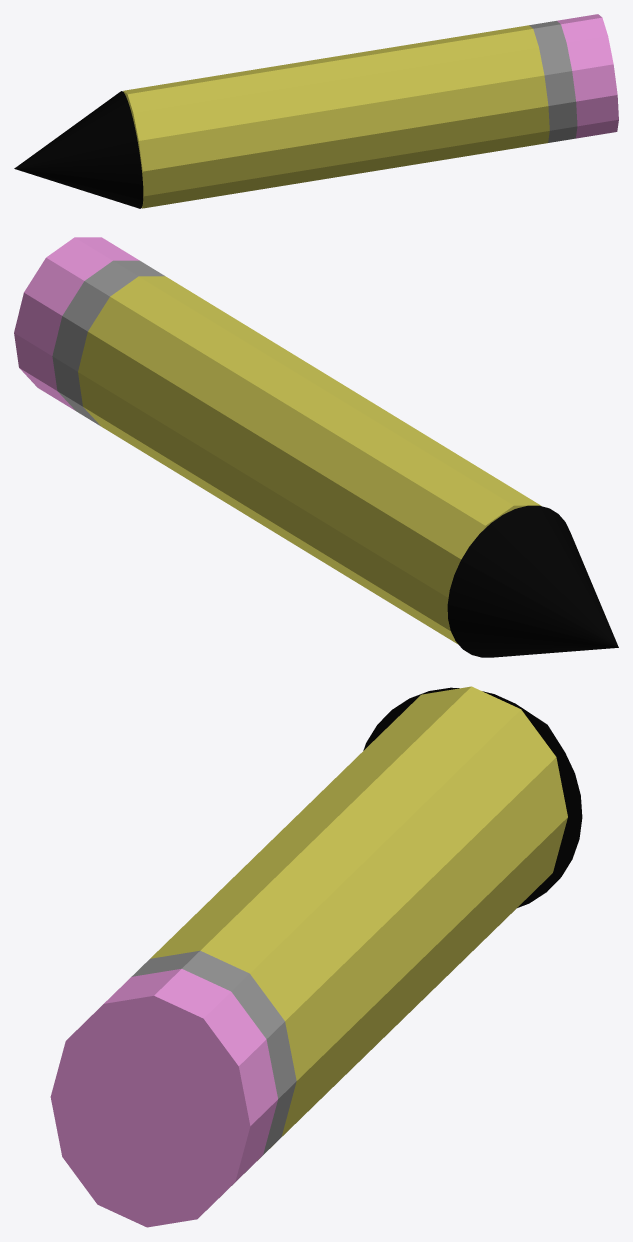
The model's file is pencil.fbx.
The picture shows the model from 3 angles, top to bottom: view 1: azimuth 30°, elevation 25°; view 2: azimuth 150°, elevation 25°; view 3: azimuth 270°, elevation 25°; orthographic projection. The views are drawn at different scales.
Visible parts, largest first — view 1: Pencil_Base, Pencil_Tip; view 2: Pencil_Base, Pencil_Tip; view 3: Pencil_Base, Pencil_Tip.
Boxes of the visible parts, x1,y1,x2,y2 form: Pencil_Base: (123, 14, 618, 208); Pencil_Tip: (14, 91, 143, 208); Pencil_Base: (14, 237, 540, 644); Pencil_Tip: (447, 505, 618, 657); Pencil_Base: (50, 686, 567, 1227); Pencil_Tip: (363, 687, 582, 907).
Bounding box in the file's own units: 37.85 × 10.64 × 17.1.
